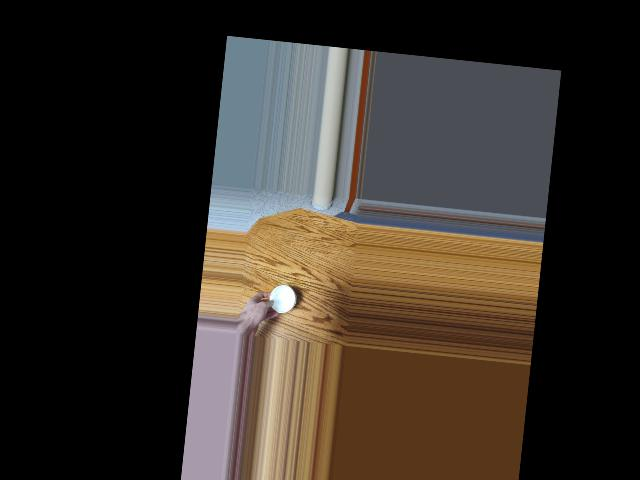cotage: (262, 281, 296, 316)
